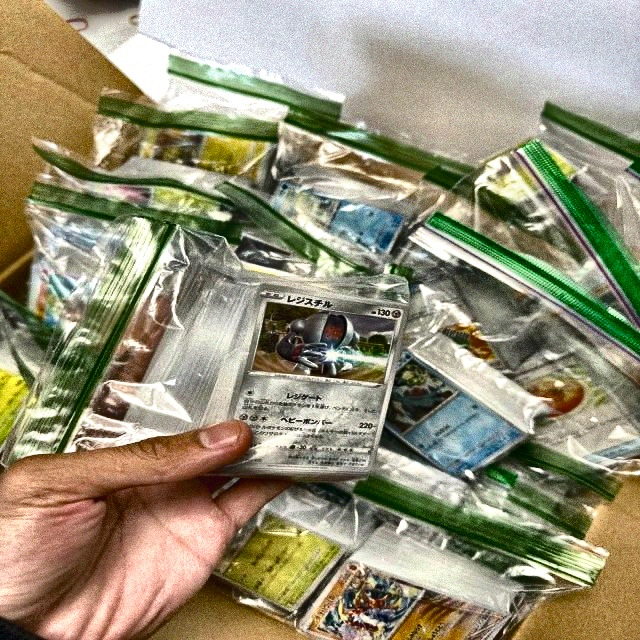card: (221, 283, 410, 472)
